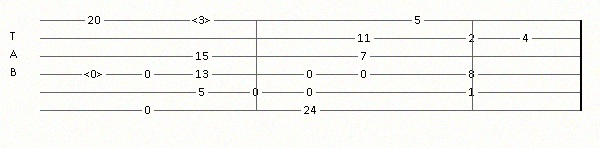0: (144, 68, 155, 80), (144, 104, 155, 116), (252, 86, 263, 98), (306, 68, 317, 80), (306, 86, 317, 98), (360, 68, 371, 80)
1: (468, 86, 479, 98)
11: (357, 32, 375, 44)
13: (195, 68, 213, 80)
15: (195, 50, 213, 62)
2: (468, 32, 479, 44)
20: (87, 14, 105, 26)
24: (303, 104, 321, 116)
4: (522, 32, 533, 44)
5: (198, 86, 209, 98), (414, 14, 425, 26)
7: (360, 50, 371, 62)
8: (468, 68, 479, 80)
harmonic: (84, 68, 107, 80), (192, 14, 215, 26)
